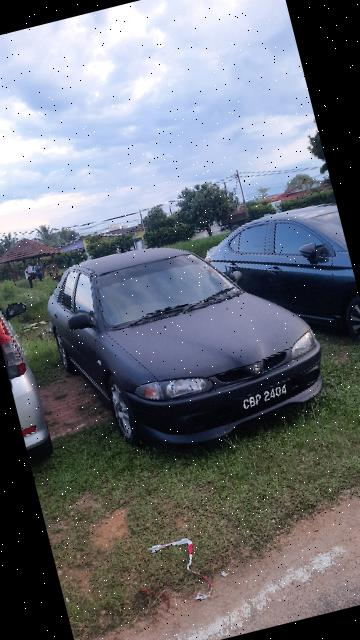License_Plate: (227, 374, 309, 418)
car: (34, 205, 350, 484)
